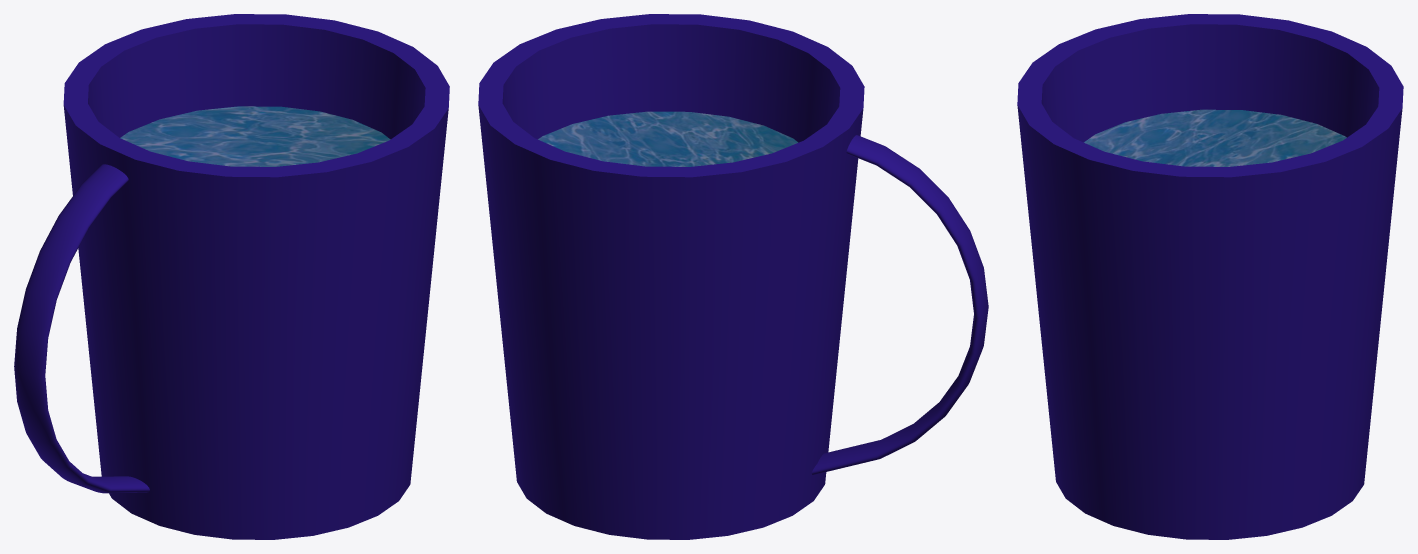
Rendered from Air putih.fbx.
3 views of the same model, side by side, from view 1: azimuth 30°, elevation 25°; view 2: azimuth 150°, elevation 25°; view 3: azimuth 270°, elevation 25° (orthographic).
Visible parts, largest first — view 1: Air Mineral; view 2: Air Mineral; view 3: Air Mineral.
Part boxes in pixels (bbox=[...]): Air Mineral: bbox=[14, 14, 449, 539]; Air Mineral: bbox=[478, 14, 988, 539]; Air Mineral: bbox=[1017, 14, 1403, 539].
Bounding box in the file's own units: 4872 × 3979 × 3674.
